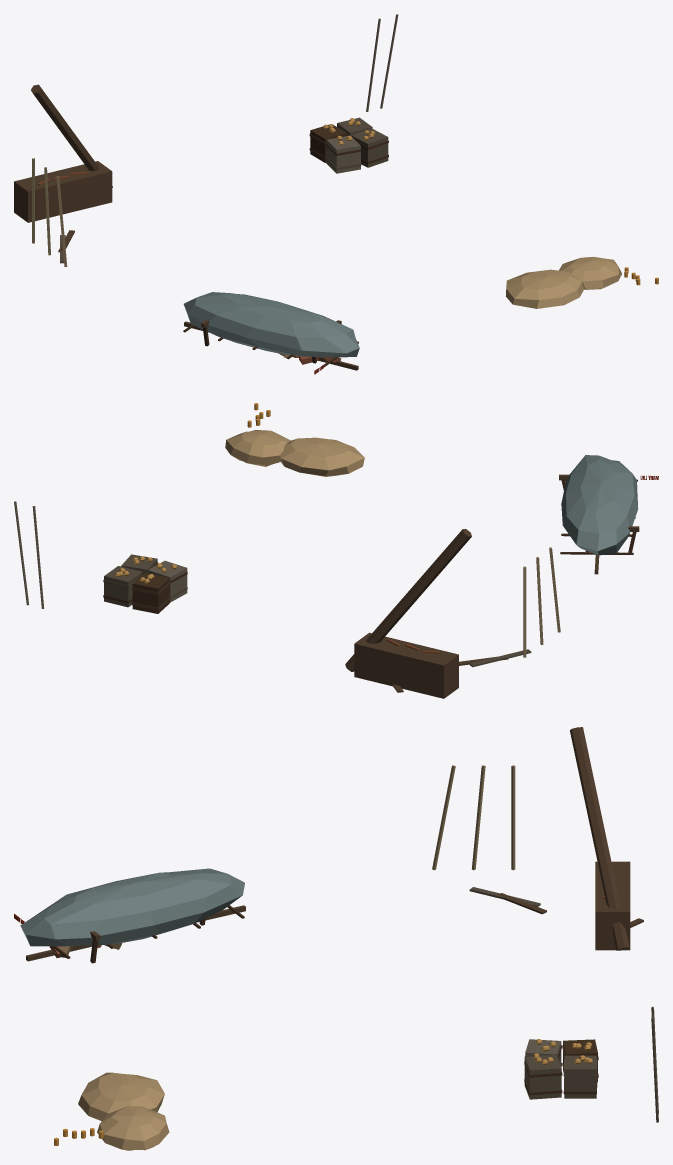
File: TownRoom_boatshed.glb
The picture shows the model from 3 angles, top to bottom: view 1: azimuth 30°, elevation 25°; view 2: azimuth 150°, elevation 25°; view 3: azimuth 270°, elevation 25°; orthographic projection. The views are drawn at different scales.
Visible parts, largest first — view 1: TownRoom_boatshed.001; view 2: TownRoom_boatshed.001; view 3: TownRoom_boatshed.001.
Part boxes in pixels (x1,y1,x2,y2): TownRoom_boatshed.001: [14, 14, 658, 374]; TownRoom_boatshed.001: [14, 403, 658, 698]; TownRoom_boatshed.001: [14, 727, 658, 1150].
Bounding box in the file's own units: 12.58 × 4.31 × 12.99.
